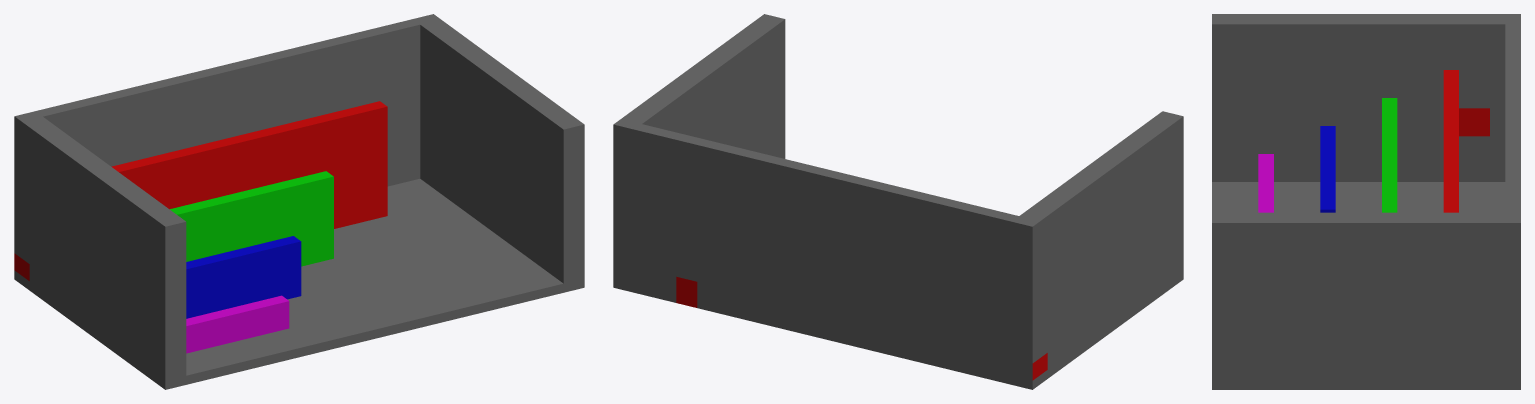
Rendered from enviro_1.dae.
3 views of the same model, side by side, from view 1: azimuth 30°, elevation 25°; view 2: azimuth 150°, elevation 25°; view 3: azimuth 270°, elevation 25° (orthographic). The views are drawn at different scales.
Visible parts, largest first — view 1: pCube1; view 2: pCube1; view 3: pCube1.
Part boxes in pixels (x1,y1,x2,y2): pCube1: (14,14,584,389); pCube1: (613,14,1183,389); pCube1: (1212,14,1520,389).
Bounding box in the file's own units: 48.09 × 17.89 × 30.
